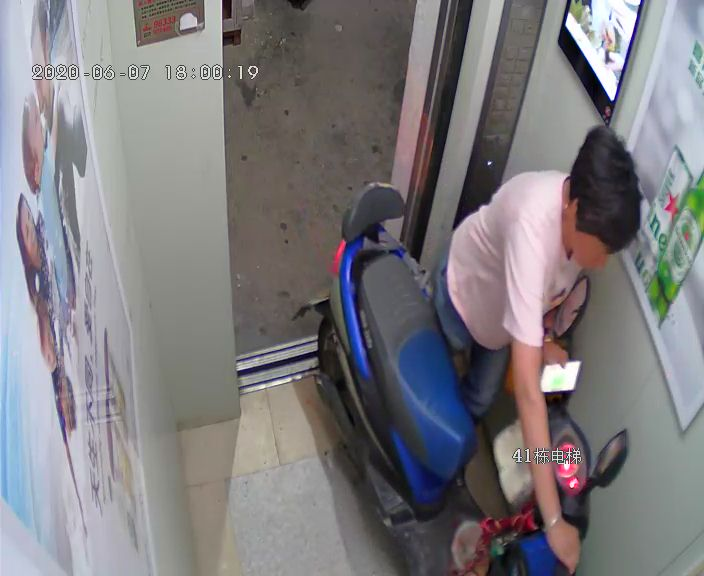Electric-bicycle: (332, 187, 592, 576)
